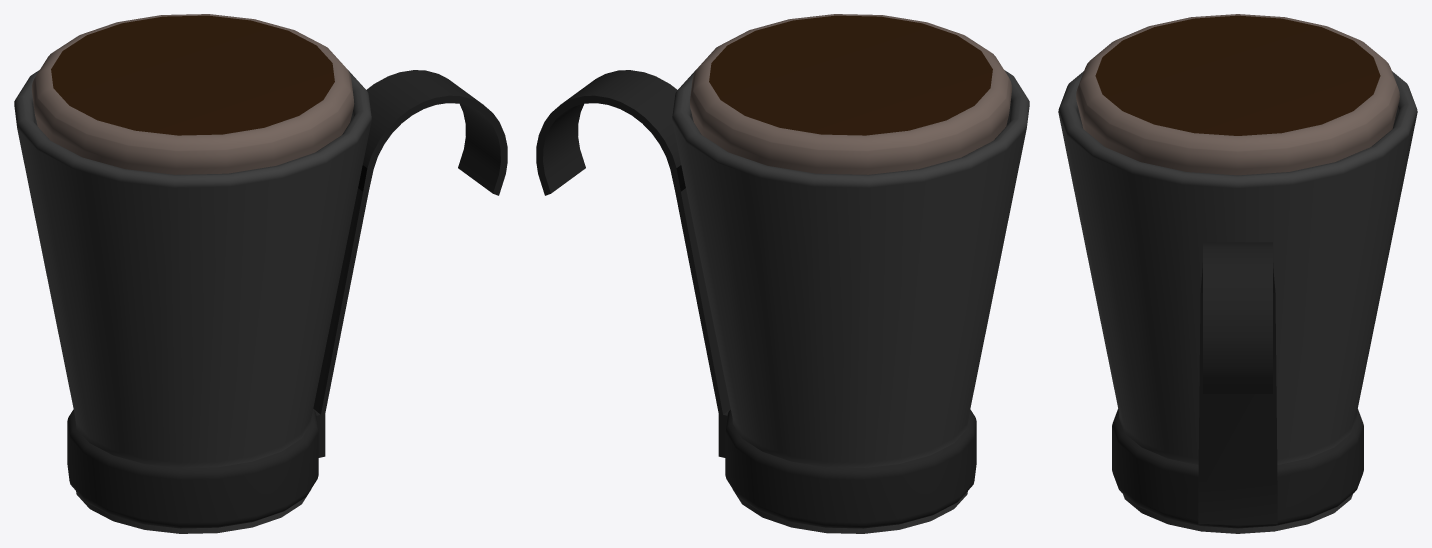
File: CoffeeMug.obj
The picture shows the model from 3 angles, left to right: view 1: azimuth 30°, elevation 25°; view 2: azimuth 150°, elevation 25°; view 3: azimuth 270°, elevation 25°; orthographic projection.
Visible parts, largest first — view 1: pCylinder4; view 2: pCylinder4; view 3: pCylinder4.
Part boxes in pixels (bbox=[...]): pCylinder4: bbox=[14, 14, 507, 533]; pCylinder4: bbox=[536, 14, 1029, 533]; pCylinder4: bbox=[1058, 14, 1417, 533].
Size of the model in its own units: 44.66 by 38.47 by 30.7.
